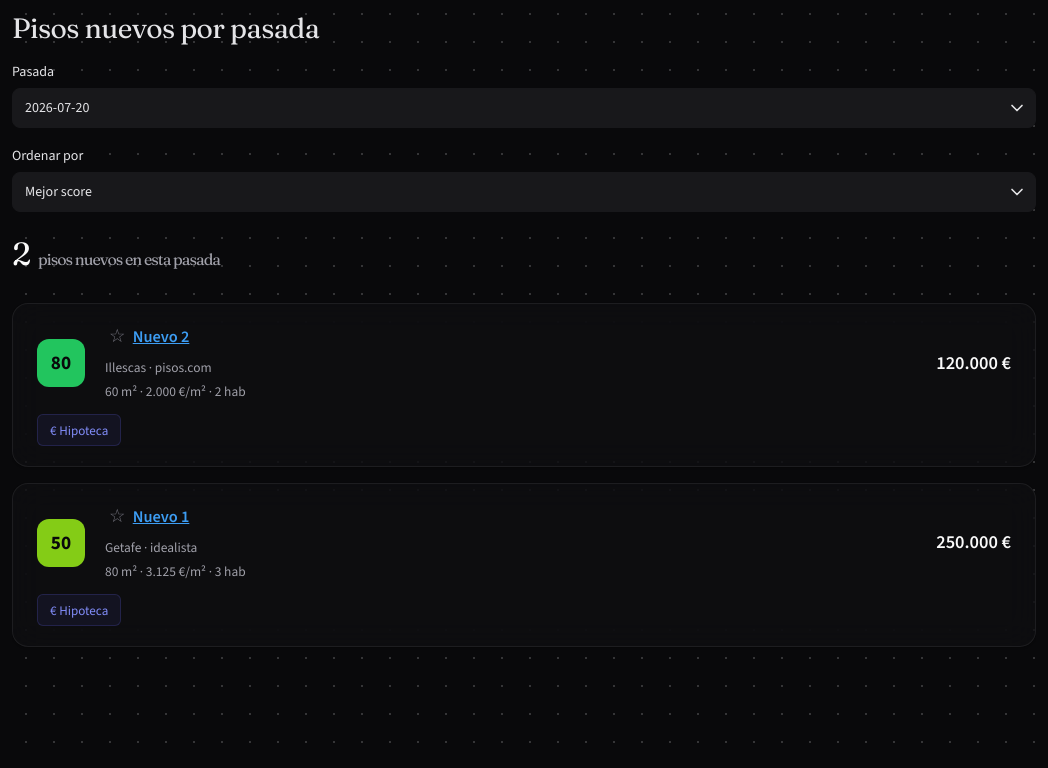
Test: Novedades › cambiar de pasada muestra solo los pisos de esa fecha
Select "2026-07-10" in the dropdown labelled "Pasada" at [524, 108], box [12,88,1036,128]
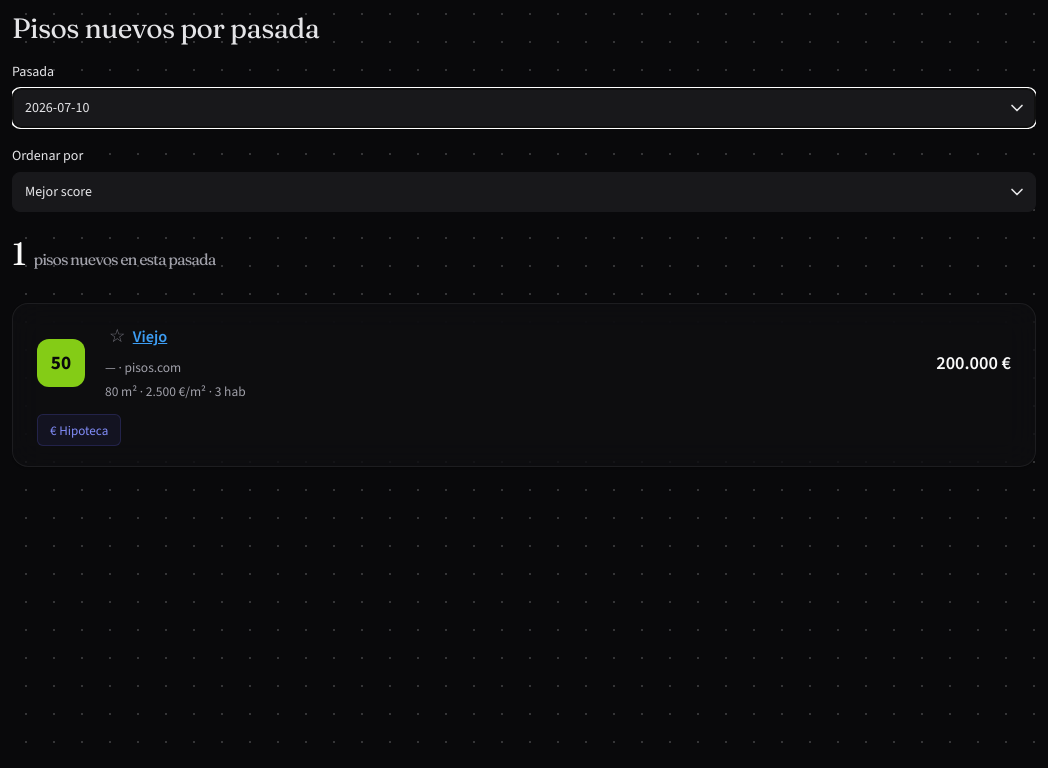
Now the element with class "lc-contador" reads "1pisos nuevos en esta pasada", box [12,234,215,273]
